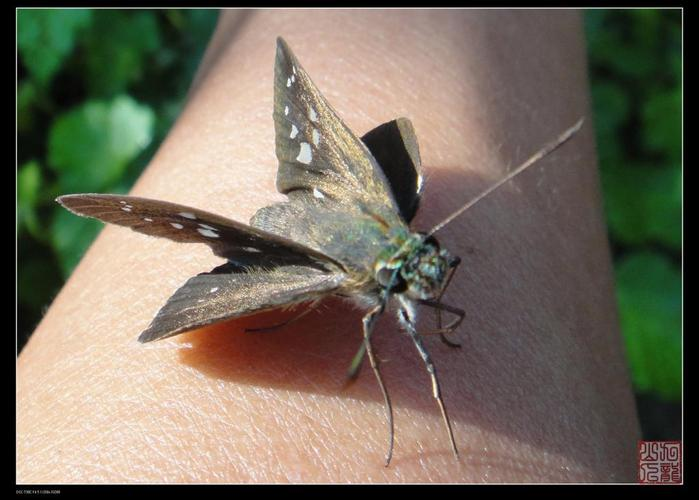Hesperiidae: (54, 27, 579, 461)
